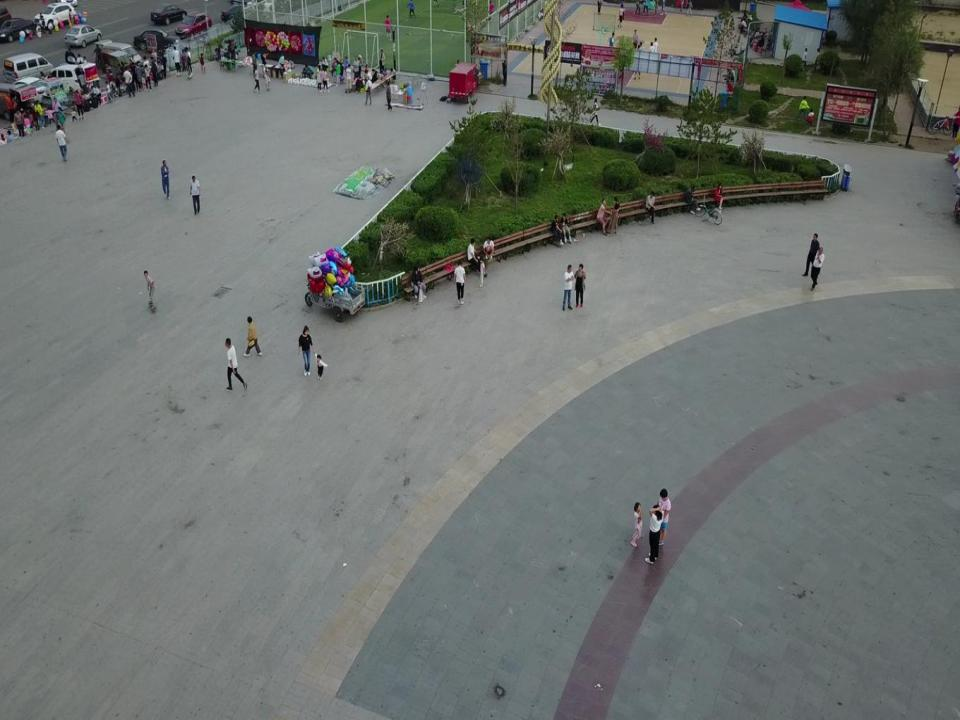car: (3, 76, 50, 109), (34, 2, 76, 31), (133, 27, 180, 51), (175, 12, 212, 40), (65, 24, 102, 48), (0, 18, 35, 41), (150, 4, 187, 25), (221, 5, 256, 25)
van: (42, 62, 100, 97), (96, 39, 143, 76), (4, 52, 55, 86), (0, 80, 37, 120), (449, 61, 479, 103)
